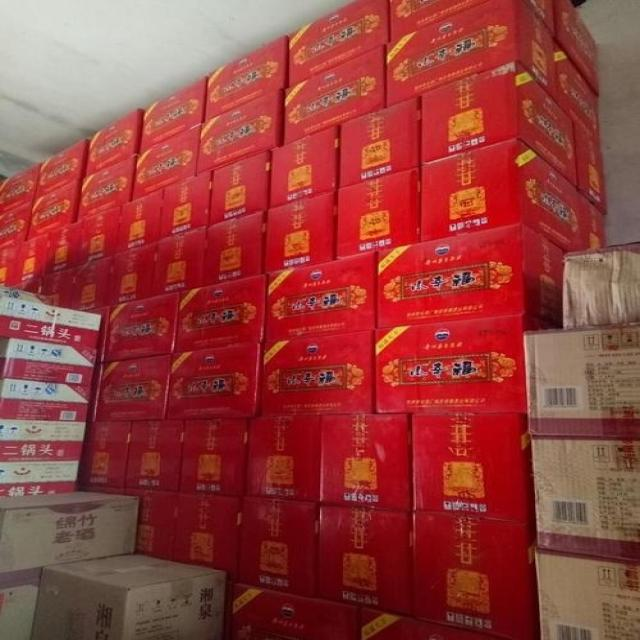box: (383, 1, 598, 135), (419, 61, 581, 189), (375, 222, 564, 331), (421, 139, 581, 251), (32, 554, 232, 640), (413, 510, 539, 638), (527, 434, 637, 562), (375, 327, 527, 415), (413, 410, 536, 518), (526, 326, 637, 439), (0, 497, 140, 578), (279, 43, 385, 147), (316, 506, 416, 616), (265, 251, 381, 344), (260, 332, 374, 416), (535, 548, 639, 639), (320, 415, 413, 511), (283, 0, 388, 85), (200, 32, 292, 126), (236, 496, 319, 597), (335, 166, 422, 261), (233, 577, 360, 640), (198, 85, 283, 177), (161, 346, 265, 420), (557, 241, 640, 333), (339, 96, 420, 187), (174, 275, 268, 352), (246, 416, 324, 503), (265, 188, 338, 277), (174, 490, 246, 575), (268, 123, 339, 209), (178, 415, 248, 495), (97, 294, 178, 363), (92, 354, 174, 422), (133, 79, 206, 154), (132, 123, 201, 201), (1, 337, 100, 391), (202, 209, 268, 287), (211, 149, 269, 226), (76, 155, 138, 224), (125, 418, 184, 490), (83, 107, 141, 180), (0, 418, 87, 465), (20, 178, 83, 241), (0, 379, 93, 421), (125, 486, 177, 561), (572, 117, 611, 214), (110, 186, 164, 256), (154, 225, 206, 296), (160, 171, 212, 242), (77, 421, 129, 488), (35, 139, 86, 201), (109, 241, 159, 304), (1, 461, 78, 498), (0, 568, 37, 640), (69, 254, 111, 312), (78, 206, 120, 262), (46, 220, 86, 273), (0, 165, 38, 214), (579, 192, 608, 249), (41, 265, 74, 310), (20, 232, 47, 285), (1, 243, 23, 284)
